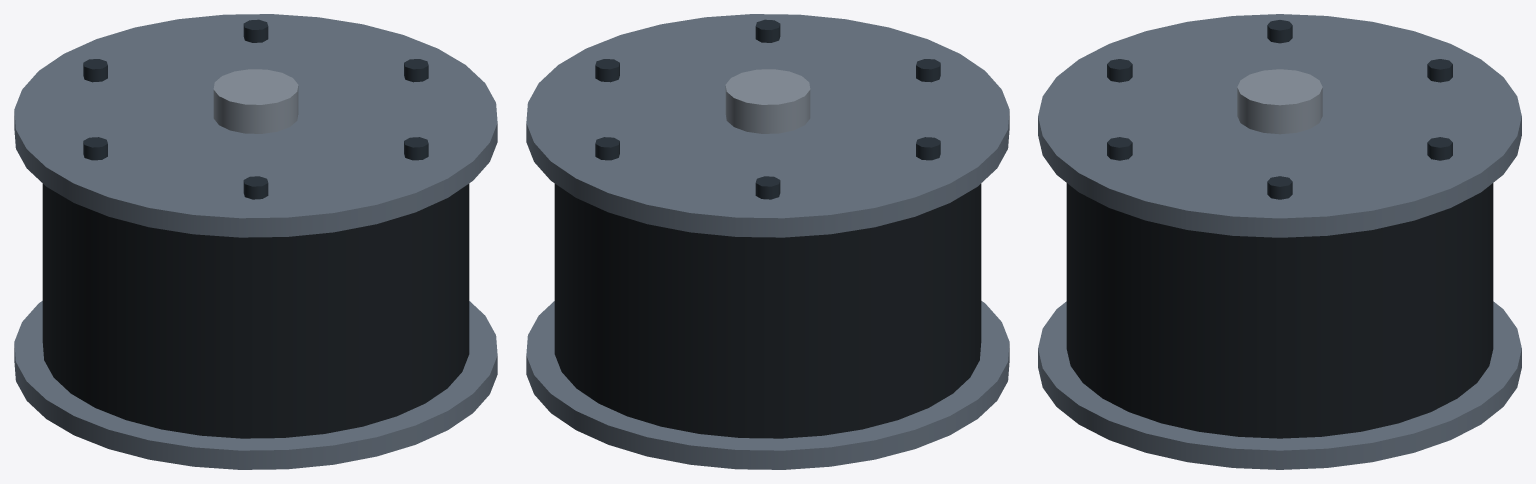
Rendered from rubber-spring.glb.
The picture shows the model from 3 angles, left to right: view 1: azimuth 30°, elevation 25°; view 2: azimuth 150°, elevation 25°; view 3: azimuth 270°, elevation 25°; orthographic projection.
Size of the model in its own units: 0.68 by 0.435 by 0.68.
